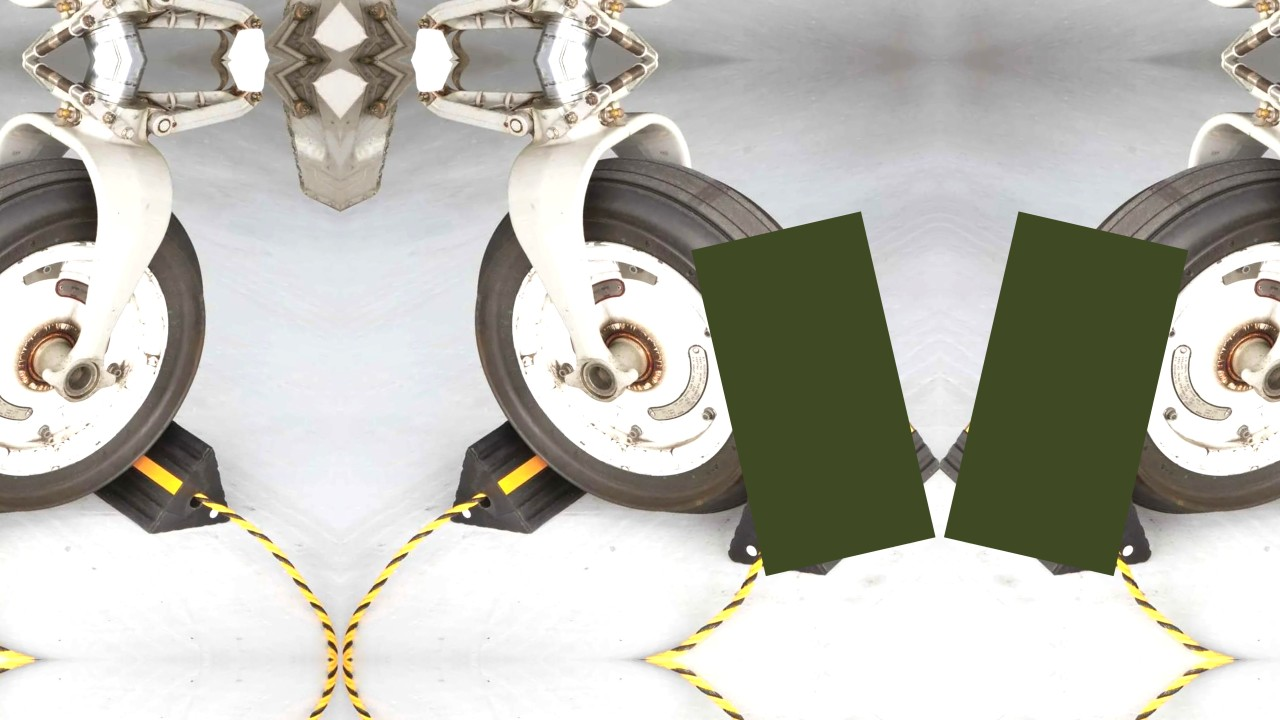chock: (691, 369, 940, 599), (940, 369, 1189, 599), (425, 364, 681, 554), (0, 364, 255, 554), (1199, 364, 1280, 554)
wheel: (441, 122, 859, 552), (1021, 122, 1280, 552), (0, 122, 239, 552)
